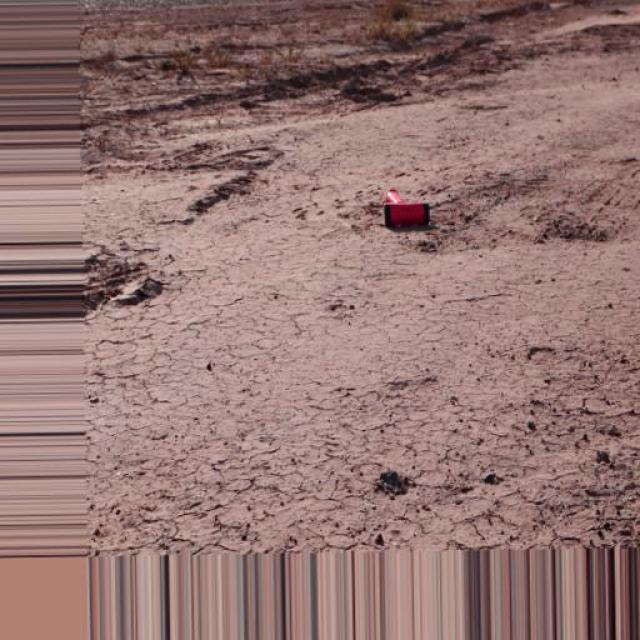mallet: (384, 186, 431, 228)
